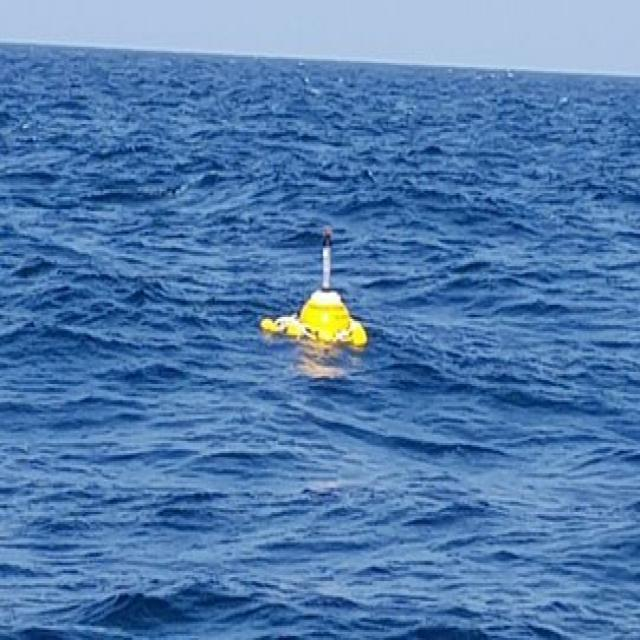buoy: (256, 186, 377, 389)
